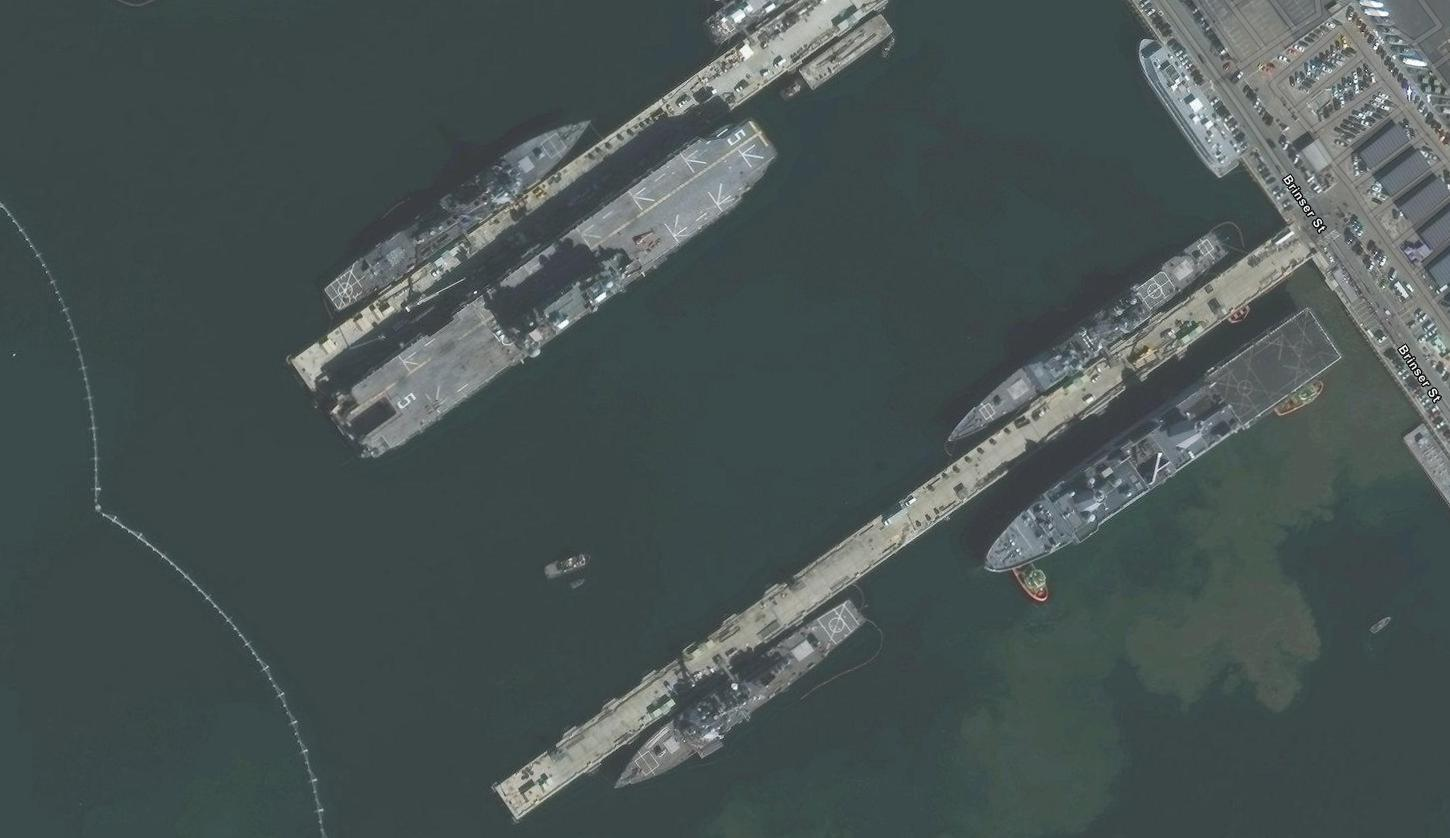amphiby: (980, 303, 1348, 588)
destroyer: (945, 230, 1235, 450)
fregate: (323, 126, 618, 313), (609, 598, 871, 792)
pha: (326, 115, 782, 466)
